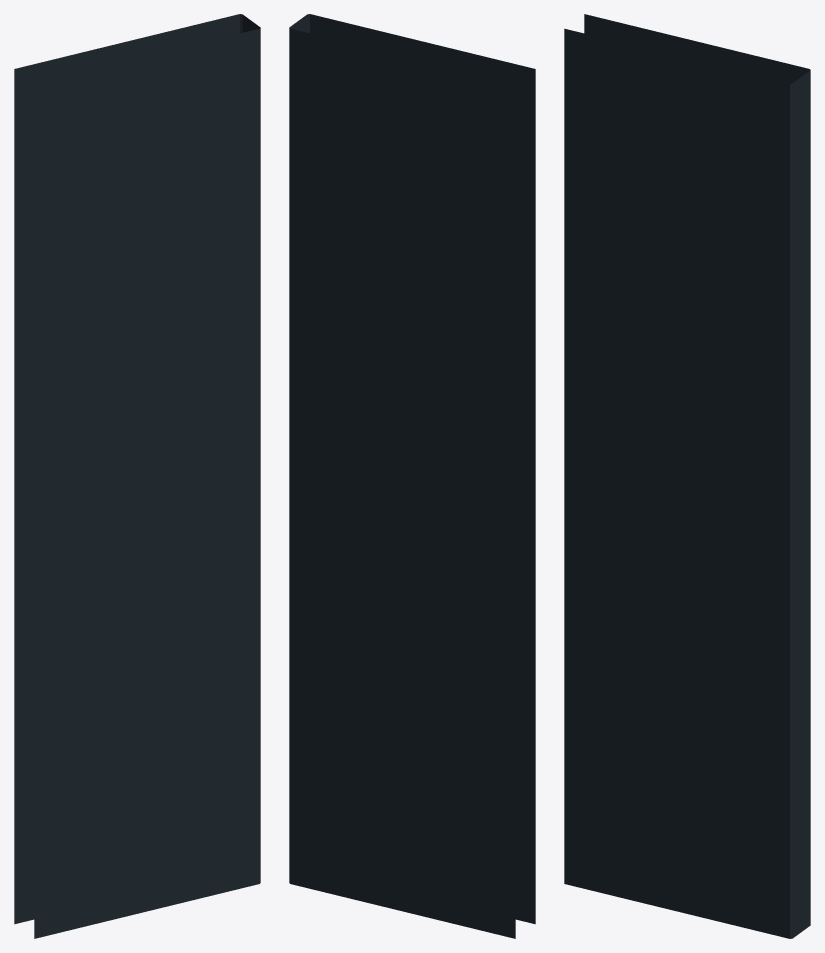
File: SM_Buildings_ElevatorDoor_L.fbx
The picture shows the model from 3 angles, left to right: view 1: azimuth 30°, elevation 25°; view 2: azimuth 150°, elevation 25°; view 3: azimuth 330°, elevation 25°; orthographic projection.
Visible parts, largest first — view 1: SM_Buildings_ElevatorDoor_L; view 2: SM_Buildings_ElevatorDoor_L; view 3: SM_Buildings_ElevatorDoor_L.
Boxes of the visible parts, x1,y1,x2,y2 form: SM_Buildings_ElevatorDoor_L: (14,14,260,938); SM_Buildings_ElevatorDoor_L: (289,14,535,938); SM_Buildings_ElevatorDoor_L: (564,14,810,938).
Size of the model in its own units: 0.67 by 2.41 by 0.102.
